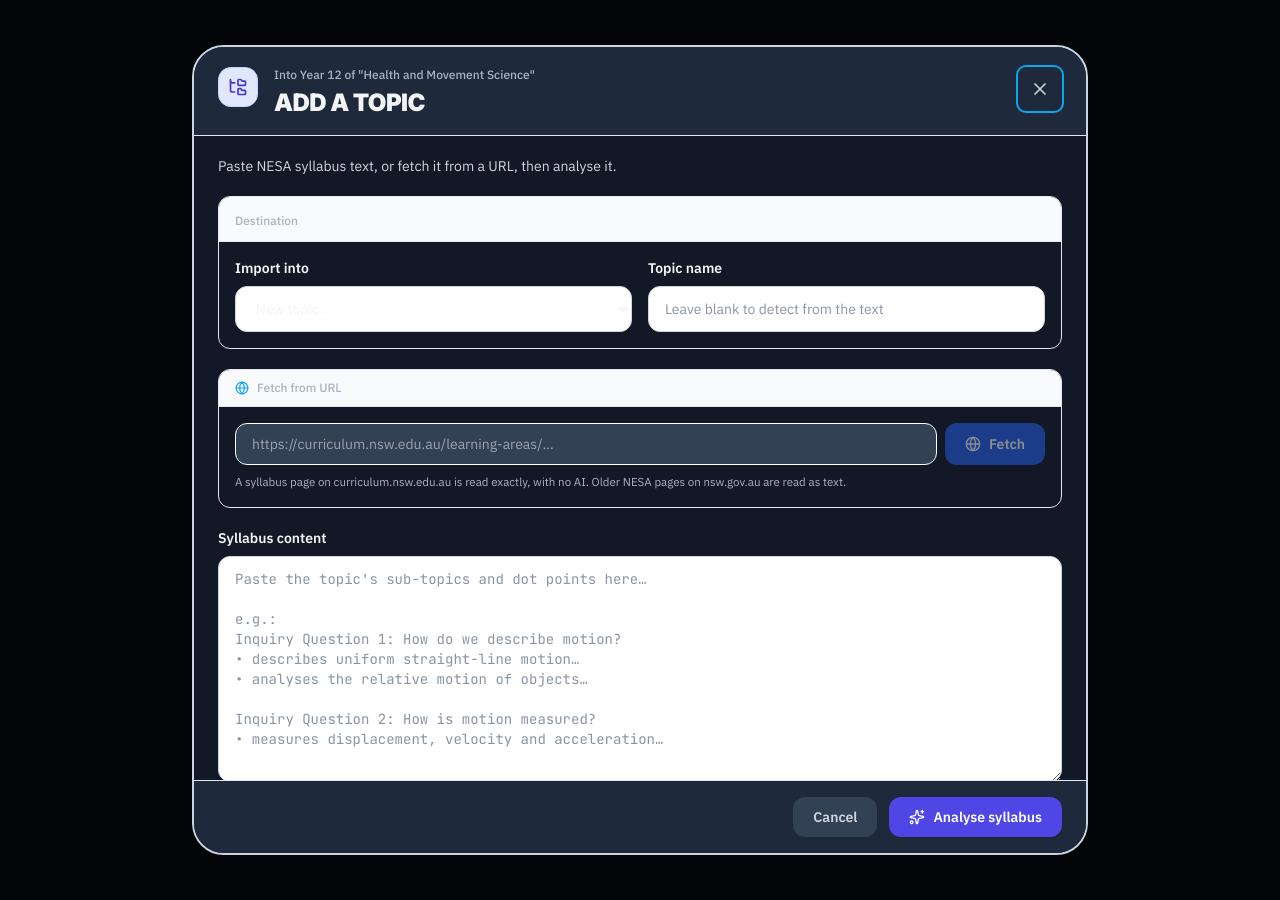
TopicSyllabusImportModal reading a NESA page › adds the focus area to the year the modal is in, and warns when the page is another year
Type "https://curriculum.nsw.edu.au/learning-areas/pdhpe-7-12-2023/health-issues" into the field with placeholder "https://curriculum.nsw.edu.au/learning-areas/…" at point(586, 444), box x1=235 y1=423 x2=937 y2=465
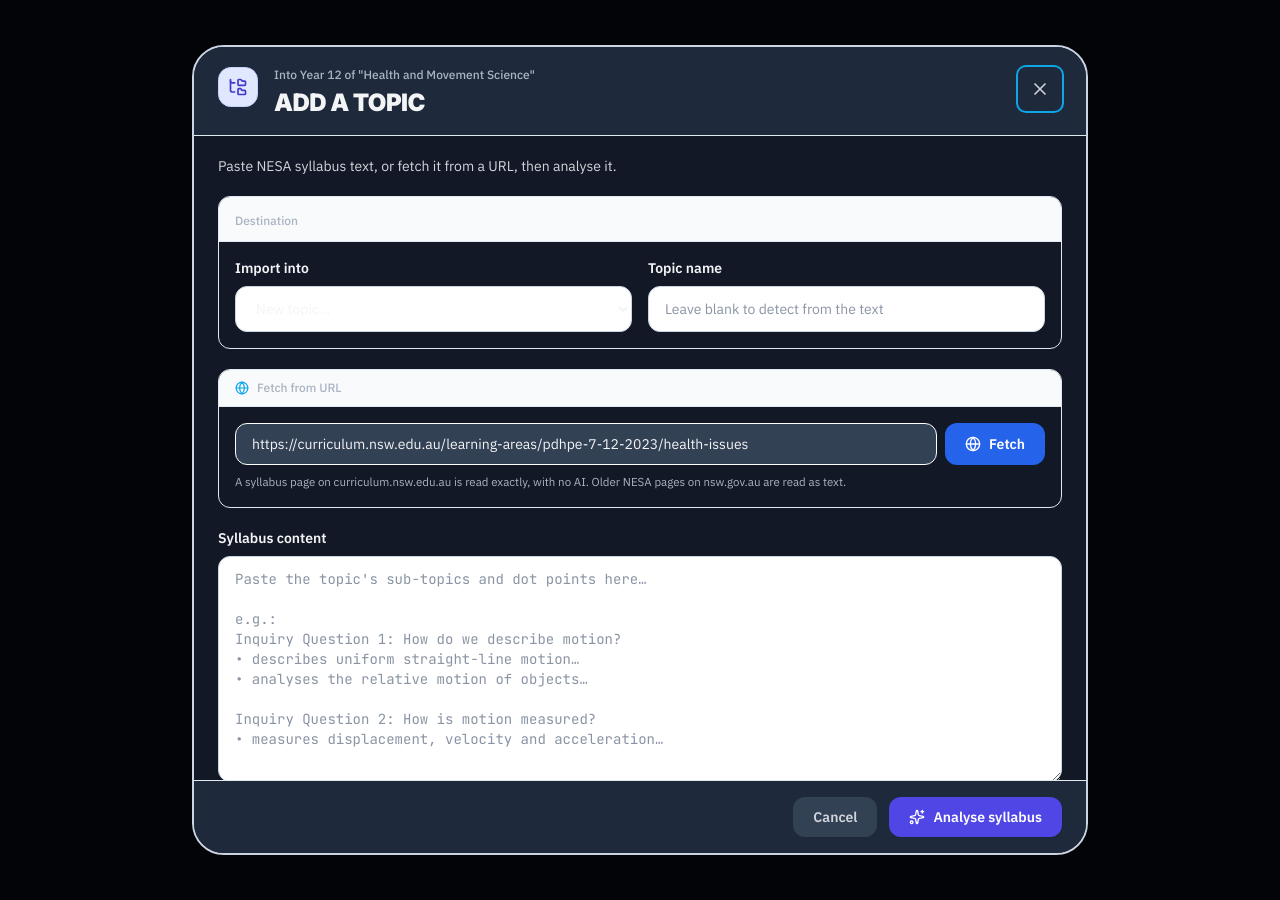
Click the button "Fetch" at point(995, 444), box x1=945 y1=423 x2=1045 y2=465
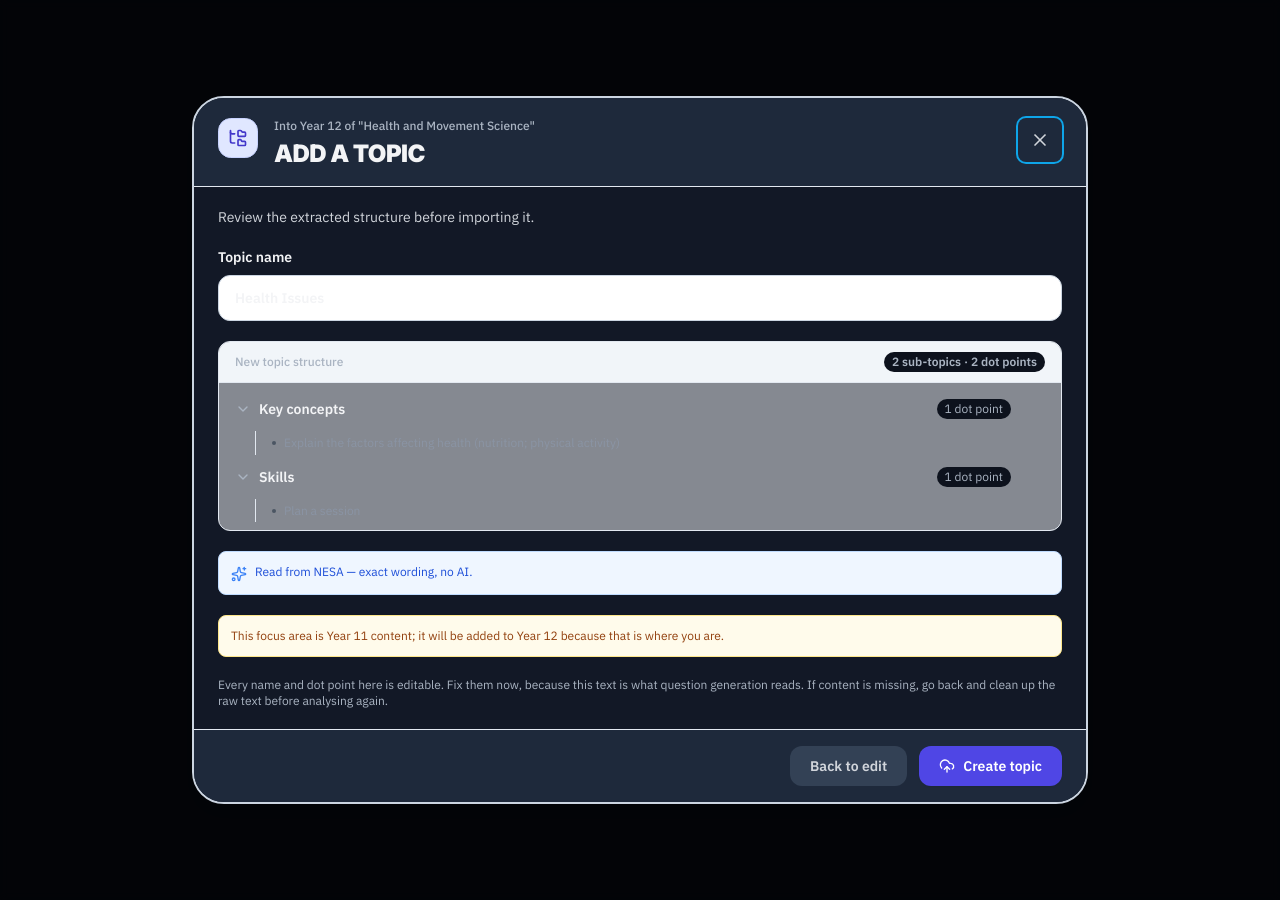
Now the text "This focus area is Year 11 content; it will be added to Year 12 because that is where you are." is shown, box x1=231 y1=628 x2=724 y2=643
